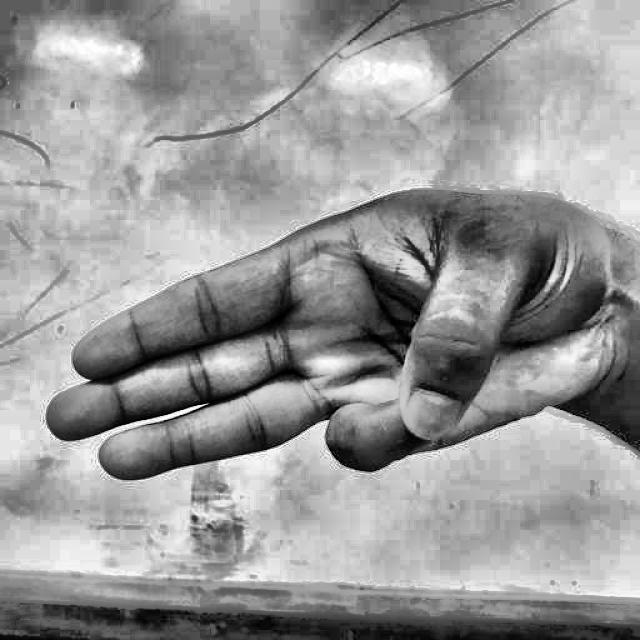Ma: (32, 153, 607, 525)
